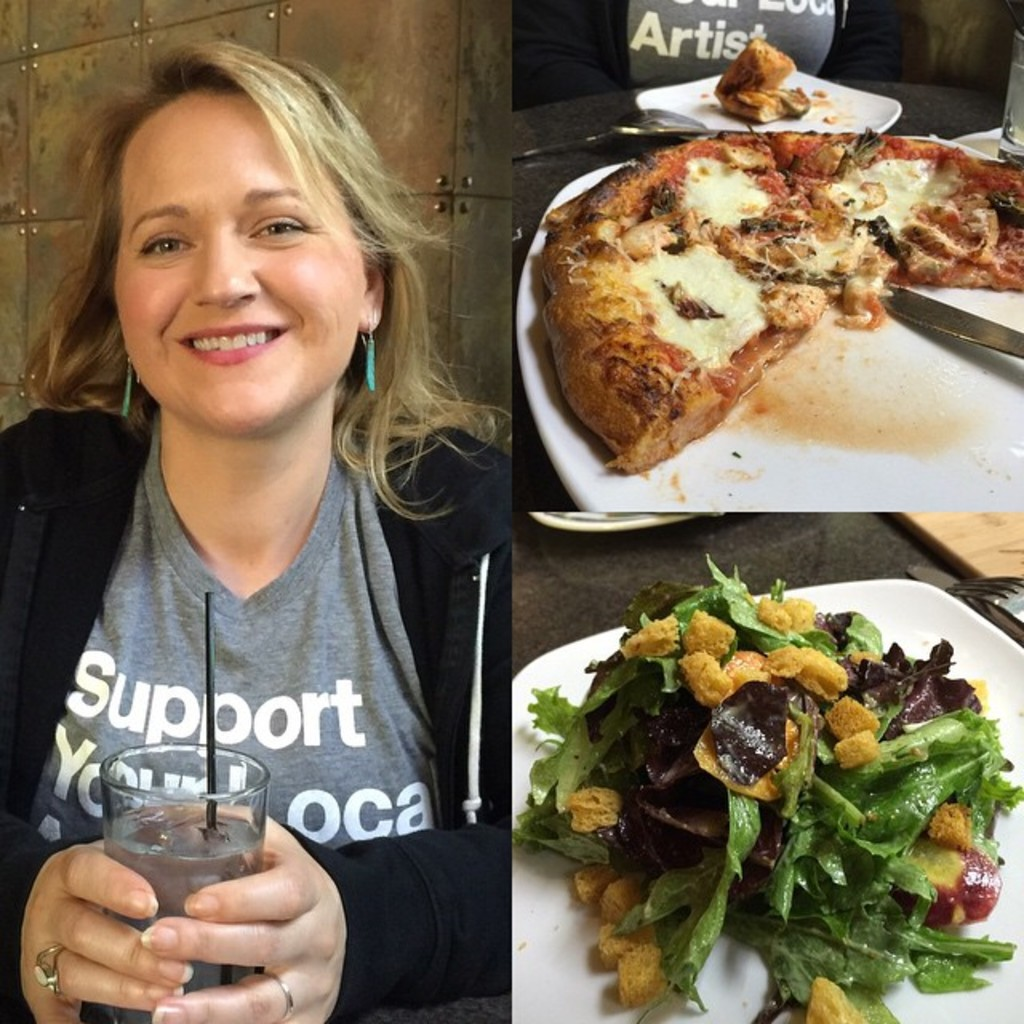Pizza: (534, 121, 1022, 473)
